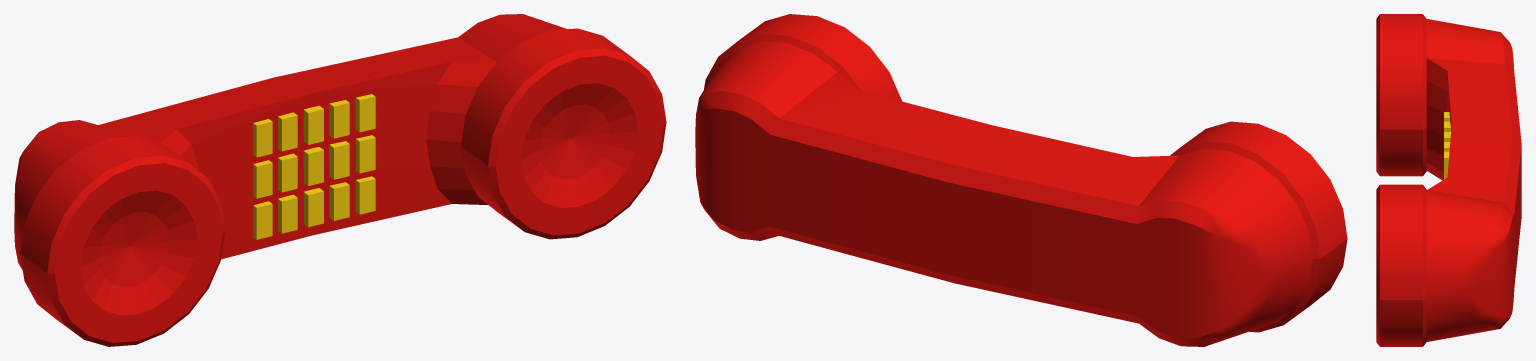
File: Phone_01(1).obj
3 views of the same model, side by side, from view 1: azimuth 30°, elevation 25°; view 2: azimuth 150°, elevation 25°; view 3: azimuth 270°, elevation 25° (orthographic). The views are drawn at different scales.
Visible parts, largest first — view 1: pCylinder27; view 2: pCylinder27; view 3: pCylinder27.
Boxes of the visible parts, x1,y1,x2,y2 form: pCylinder27: (14,14,666,346); pCylinder27: (695,14,1347,346); pCylinder27: (1376,14,1521,346).
Size of the model in its own units: 318 by 91.53 by 81.35.
